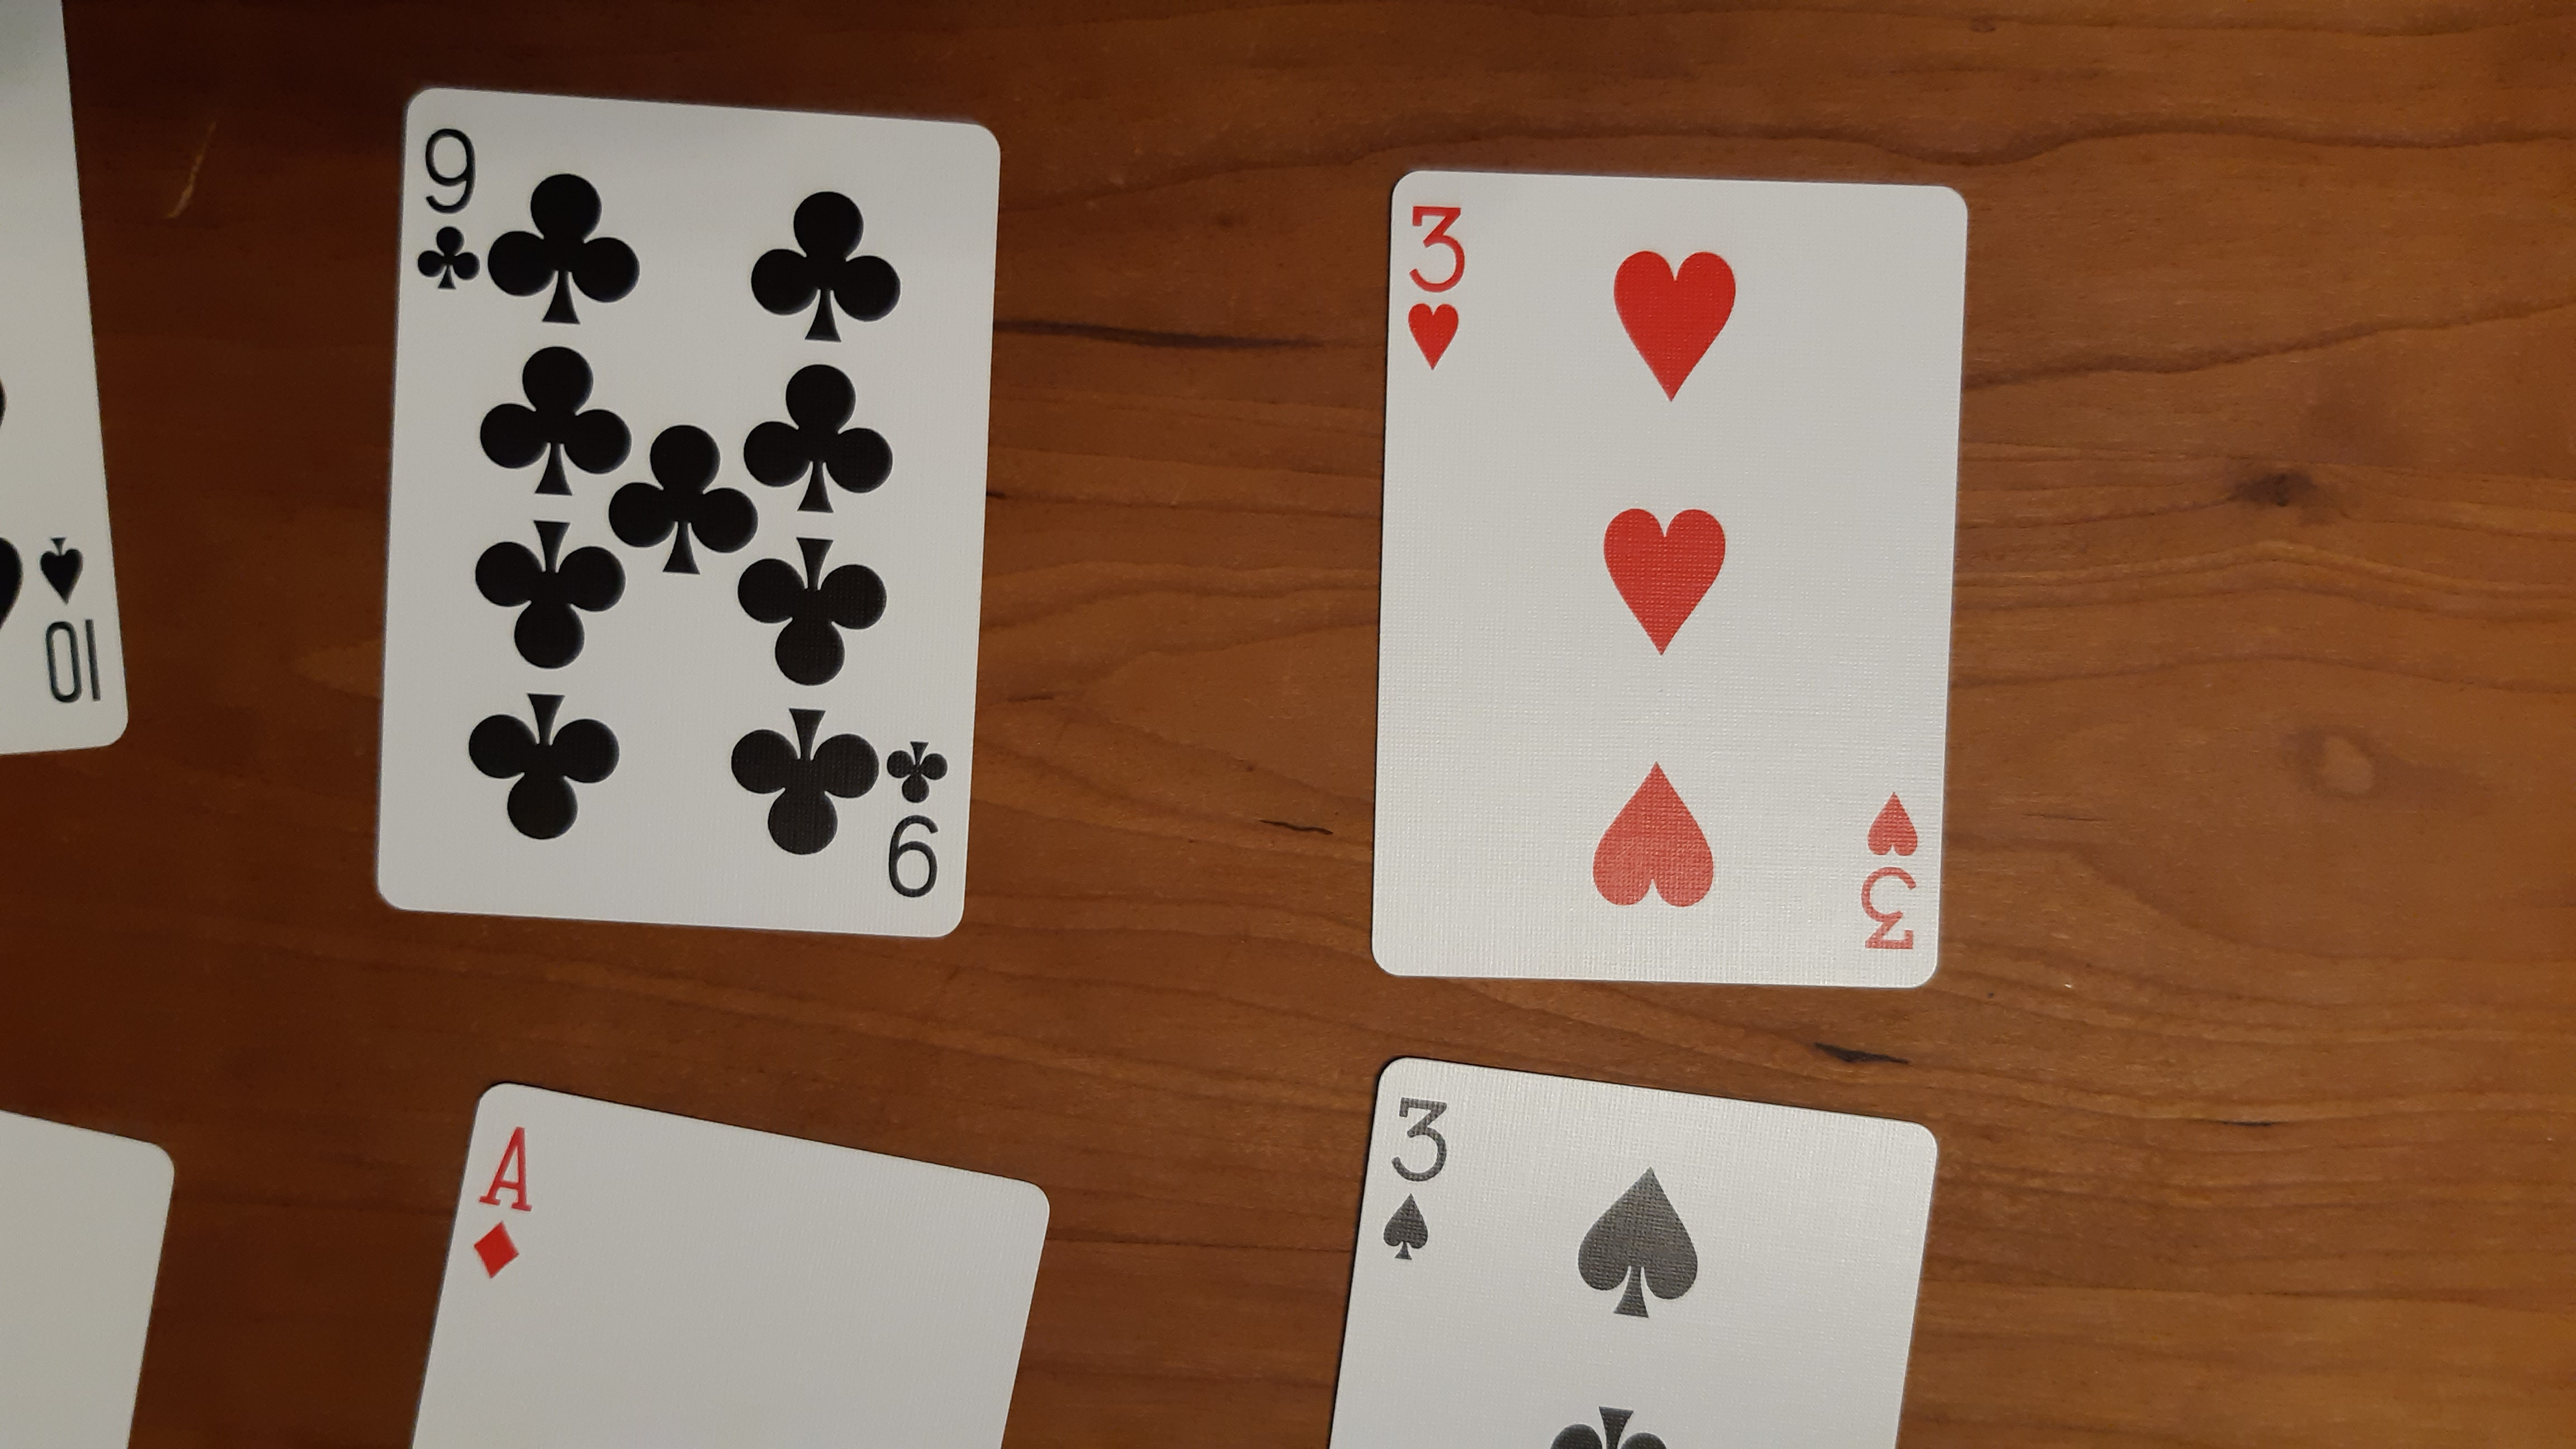Black_Club_9: (423, 122, 954, 904)
Black_Spade_3: (1371, 1090, 1460, 1267)
Red_Diamond_Ace: (469, 1120, 540, 1284)
Red_Heart_3: (1851, 778, 1928, 962), (1396, 200, 1472, 375)
